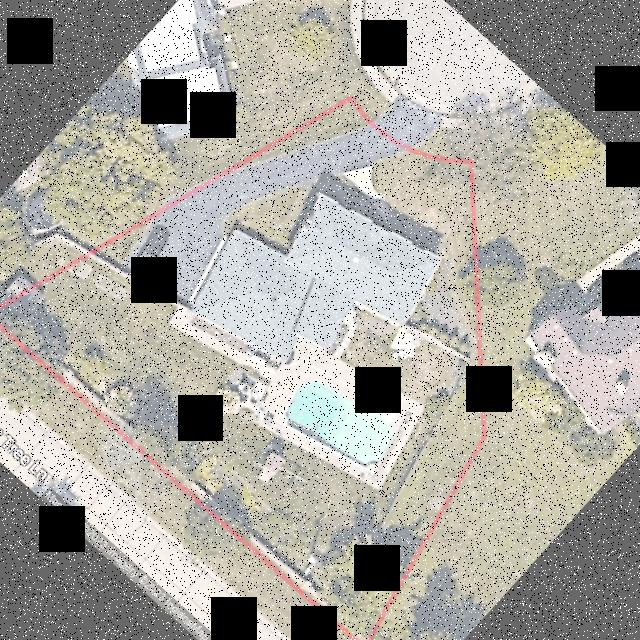Driveway: (124, 126, 406, 308)
Extra Driveway: (376, 94, 440, 146)
Extra Lawn: (411, 125, 473, 159), (351, 79, 393, 122)
House: (192, 193, 438, 360)
Other: (221, 337, 423, 491), (389, 327, 420, 360), (93, 274, 127, 300), (257, 452, 284, 484), (67, 261, 92, 280)
Sidewalk: (168, 306, 280, 380), (341, 166, 390, 230), (331, 304, 359, 358)
